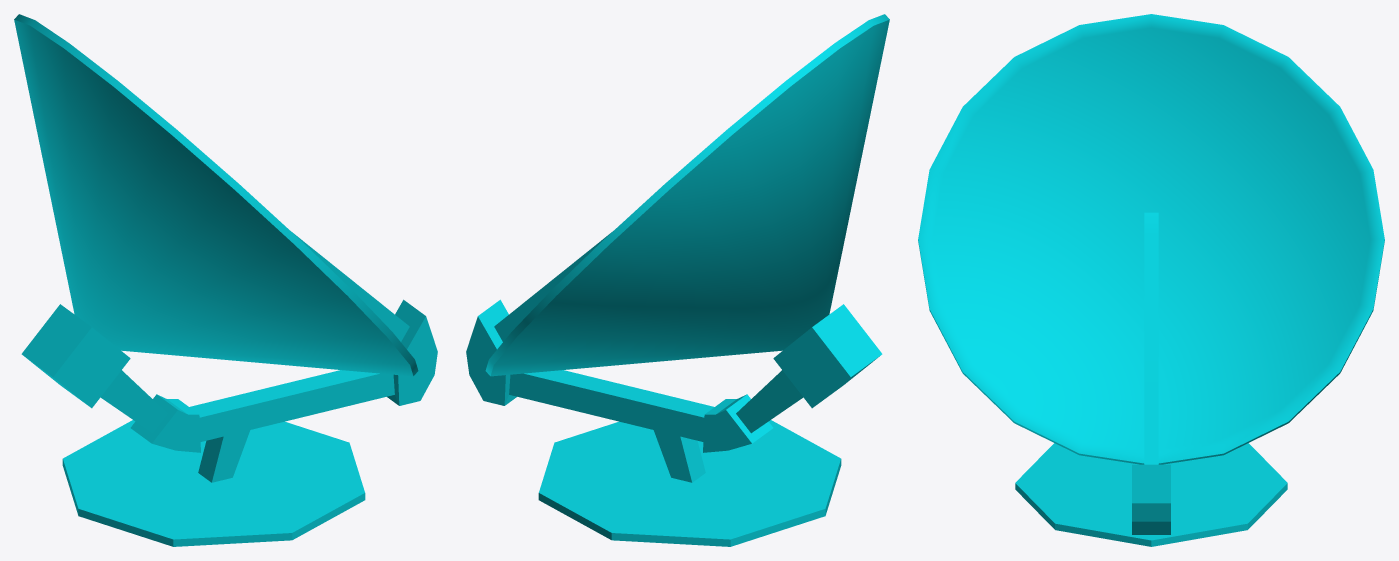
File: Parabola.fbx
The picture shows the model from 3 angles, left to right: view 1: azimuth 30°, elevation 25°; view 2: azimuth 150°, elevation 25°; view 3: azimuth 270°, elevation 25°; orthographic projection. The views are drawn at different scales.
Parts seen in each view (by area): view 1: parabola; view 2: parabola; view 3: parabola.
Part boxes in pixels (x1=…): parabola: x1=14, y1=14, x2=437, y2=546; parabola: x1=466, y1=14, x2=889, y2=546; parabola: x1=918, y1=14, x2=1384, y2=546.
Size of the model in its own units: 120 by 141 by 143.
